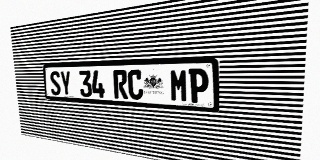3: (79, 70, 92, 97)
4: (91, 70, 105, 98)
C: (127, 69, 143, 100)
M: (170, 69, 188, 102)
P: (189, 68, 209, 103)
R: (113, 70, 128, 99)
S: (49, 71, 61, 95)
Y: (60, 71, 72, 96)
